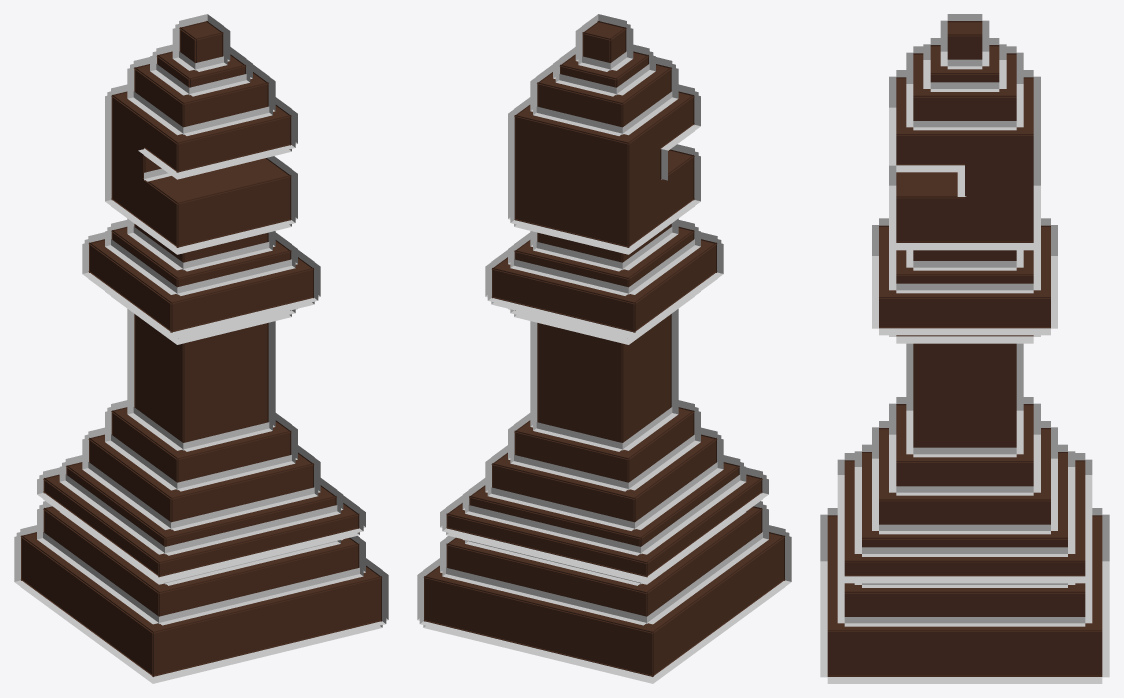
Rendered from brown-bishop.glb.
3 renders of one model, left to right at view 1: azimuth 30°, elevation 25°; view 2: azimuth 150°, elevation 25°; view 3: azimuth 270°, elevation 25°, orthographic. The views are drawn at different scales.
Parts seen in each view (by area): view 1: chess-bishop-brown_model; view 2: chess-bishop-brown_model; view 3: chess-bishop-brown_model.
Boxes of the visible parts, left/top/right/bottom form: chess-bishop-brown_model: left=14, top=14, right=388, bottom=683; chess-bishop-brown_model: left=417, top=14, right=791, bottom=683; chess-bishop-brown_model: left=820, top=14, right=1109, bottom=683.
Size of the model in its own units: 1.68 by 3.88 by 1.68.
2 materials, 1 textured.
